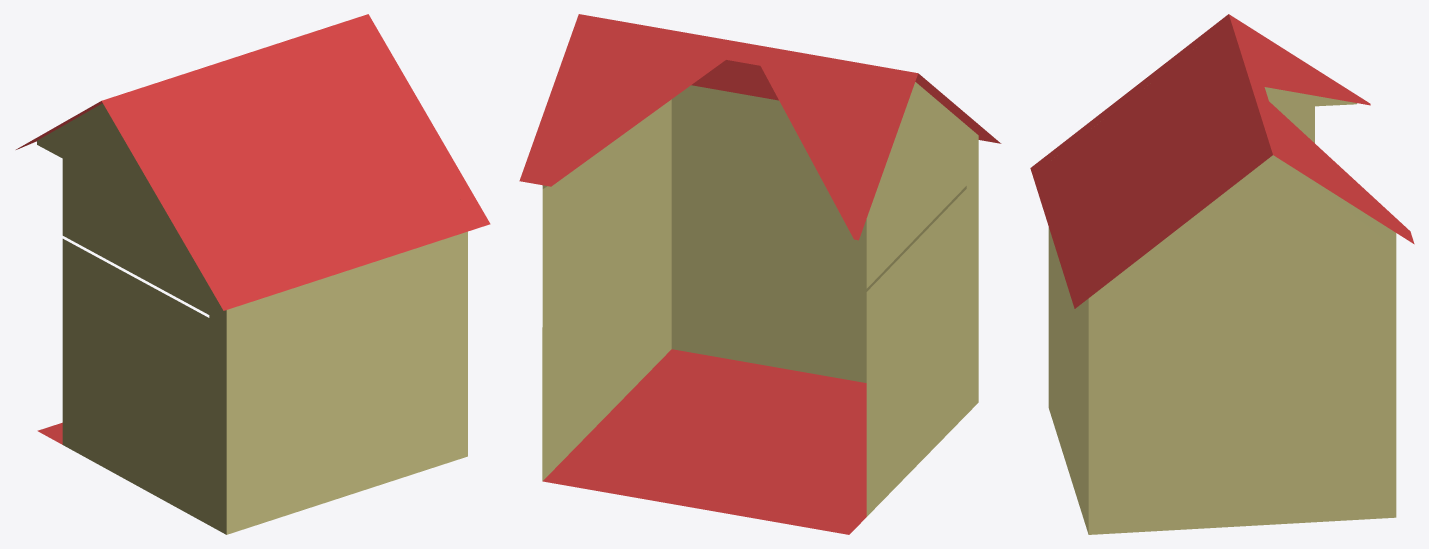
3 renders of one model, left to right at view 1: azimuth 30°, elevation 25°; view 2: azimuth 150°, elevation 25°; view 3: azimuth 270°, elevation 25°, orthographic. The views are drawn at different scales.
Bounding box in the file's own units: 11.69 × 11.85 × 12.81.
